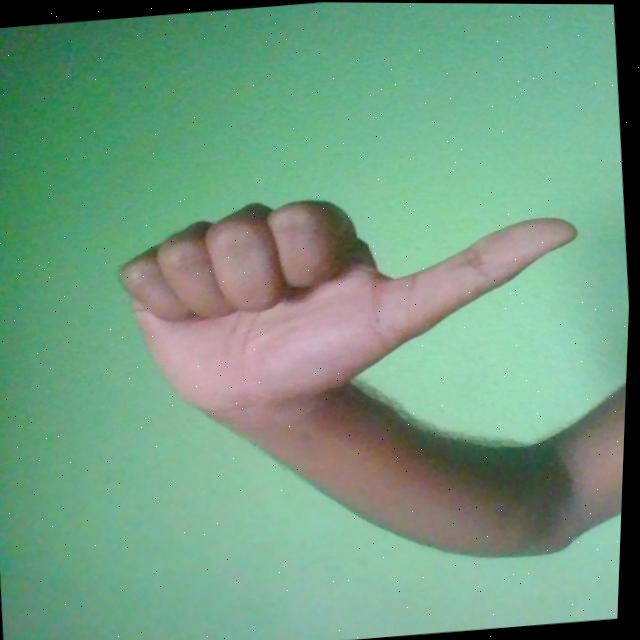Dislike: (110, 171, 595, 425)
